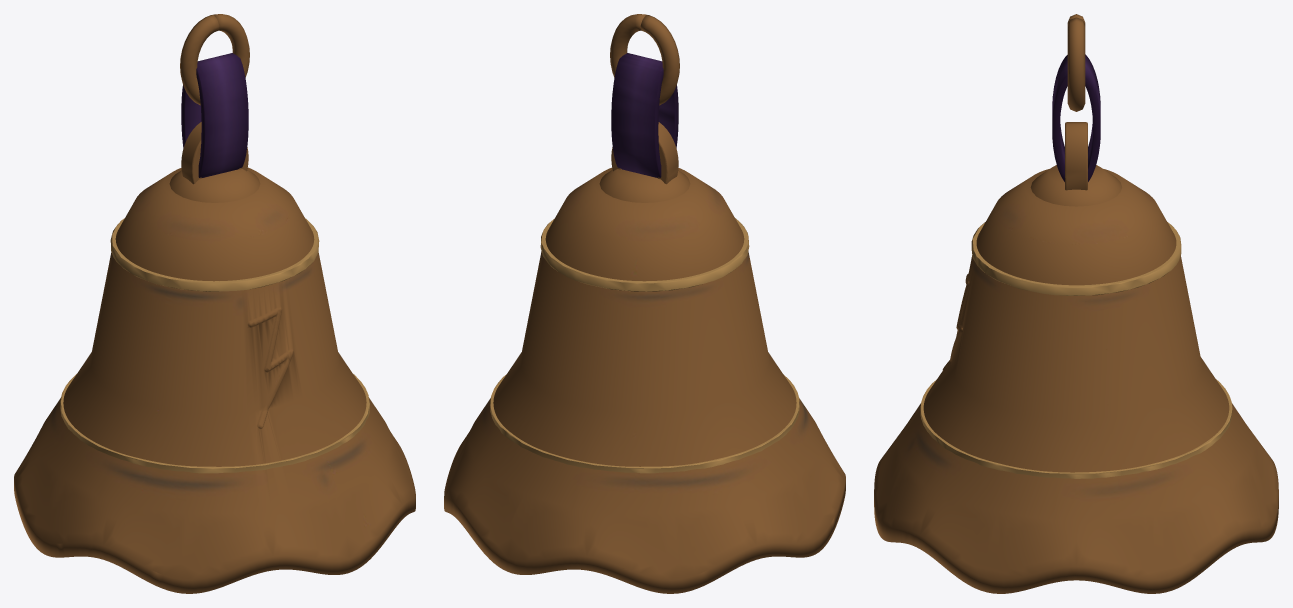
The model's file is thunderbell.glb.
The picture shows the model from 3 angles, left to right: view 1: azimuth 30°, elevation 25°; view 2: azimuth 150°, elevation 25°; view 3: azimuth 270°, elevation 25°; orthographic projection.
Visible parts, largest first — view 1: thunderbell_Baked.001 export; view 2: thunderbell_Baked.001 export; view 3: thunderbell_Baked.001 export.
Part boxes in pixels (left/top/right/bottom): thunderbell_Baked.001 export: left=14, top=14, right=415, bottom=593; thunderbell_Baked.001 export: left=444, top=14, right=845, bottom=593; thunderbell_Baked.001 export: left=874, top=14, right=1278, bottom=593.
Size of the model in its own units: 0.158 by 0.2384 by 0.158.
1 material, 1 textured.
